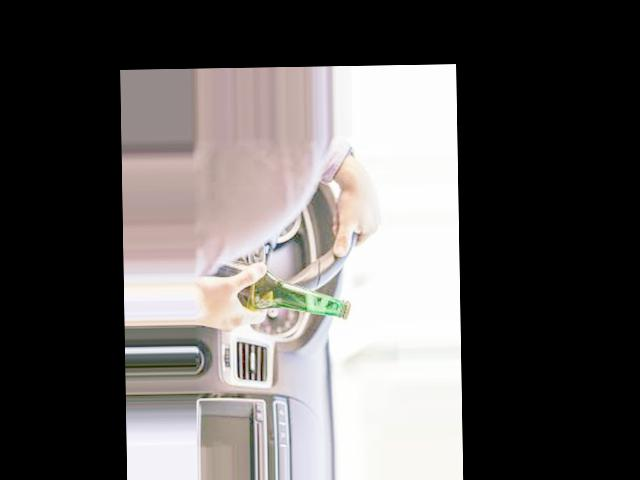beer: (199, 256, 351, 323)
